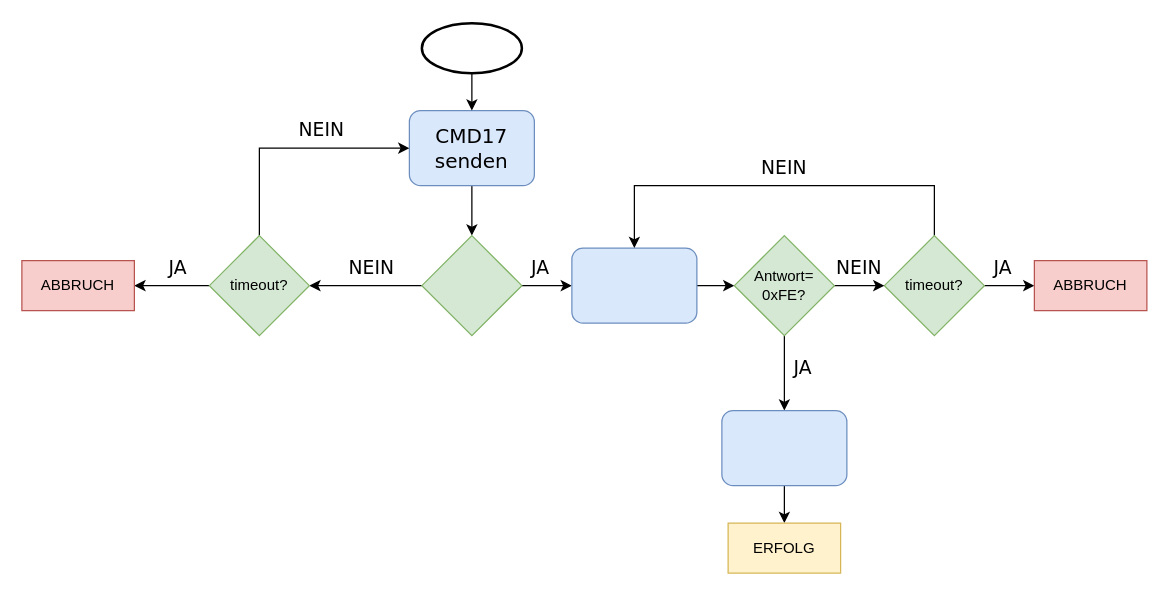
Some shapes in this 1169 by 595 pixel diagram are drawn without their labels. Here are the shapes that lost their labels. From the top down, the centre of each, then its label:
At point (471, 47): "START".
At point (471, 285): "Antwort = 0x00?".
At point (634, 285): "Warten auf 0xFE".
At point (784, 447): "512 Byte in den Buffer lesen".
